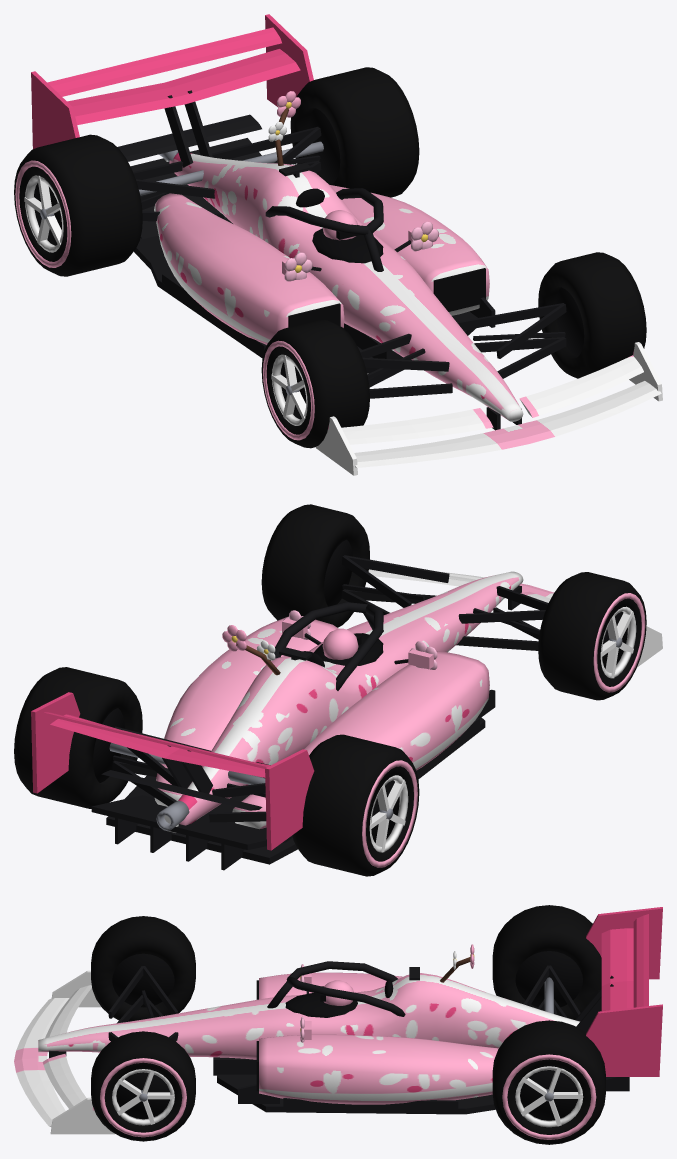
File: sakura_a.fbx
3 renders of one model, top to bottom at view 1: azimuth 30°, elevation 25°; view 2: azimuth 150°, elevation 25°; view 3: azimuth 270°, elevation 25°, orthographic. The views are drawn at different scales.
Parts seen in each view (by area): view 1: Body, Trim, Wheel_RL, Wheel_RR, Wheel_FL, Wheel_FR, Acc; view 2: Body, Trim, Wheel_RL, Wheel_FL, Wheel_RR, Wheel_FR, Acc; view 3: Body, Trim, Wheel_RR, Wheel_FR, Wheel_RL, Wheel_FL, Acc.
Boxes of the visible parts, bbox=[...] form: Body: bbox=[31, 14, 662, 475]; Trim: bbox=[117, 90, 566, 430]; Wheel_RL: bbox=[14, 134, 142, 276]; Wheel_RR: bbox=[290, 67, 419, 197]; Wheel_FL: bbox=[261, 319, 369, 448]; Wheel_FR: bbox=[538, 252, 646, 378]; Acc: bbox=[268, 91, 438, 281]; Body: bbox=[31, 569, 662, 850]; Trim: bbox=[91, 555, 548, 870]; Wheel_RL: bbox=[292, 734, 419, 876]; Wheel_FL: bbox=[538, 572, 646, 700]; Wheel_RR: bbox=[14, 667, 142, 808]; Wheel_FR: bbox=[261, 504, 369, 627]; Acc: bbox=[222, 610, 437, 675]; Body: bbox=[14, 907, 662, 1134]; Trim: bbox=[49, 961, 629, 1114]; Wheel_RR: bbox=[492, 1020, 605, 1144]; Wheel_FR: bbox=[91, 1031, 195, 1141]; Wheel_RL: bbox=[492, 905, 601, 1019]; Wheel_FL: bbox=[91, 916, 195, 1021]; Acc: bbox=[300, 944, 474, 1042].
Bounding box in the file's own units: 9.81 × 4.5 × 18.55.
4 materials, 1 textured.
